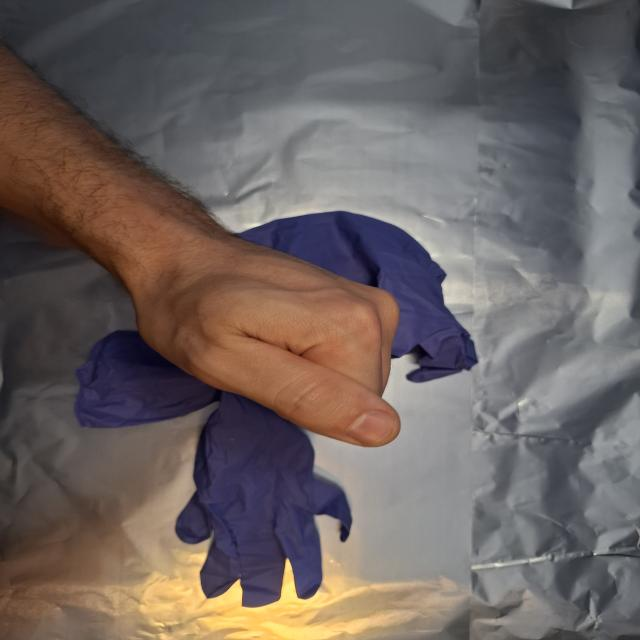glove_off: (132, 230, 405, 450)
